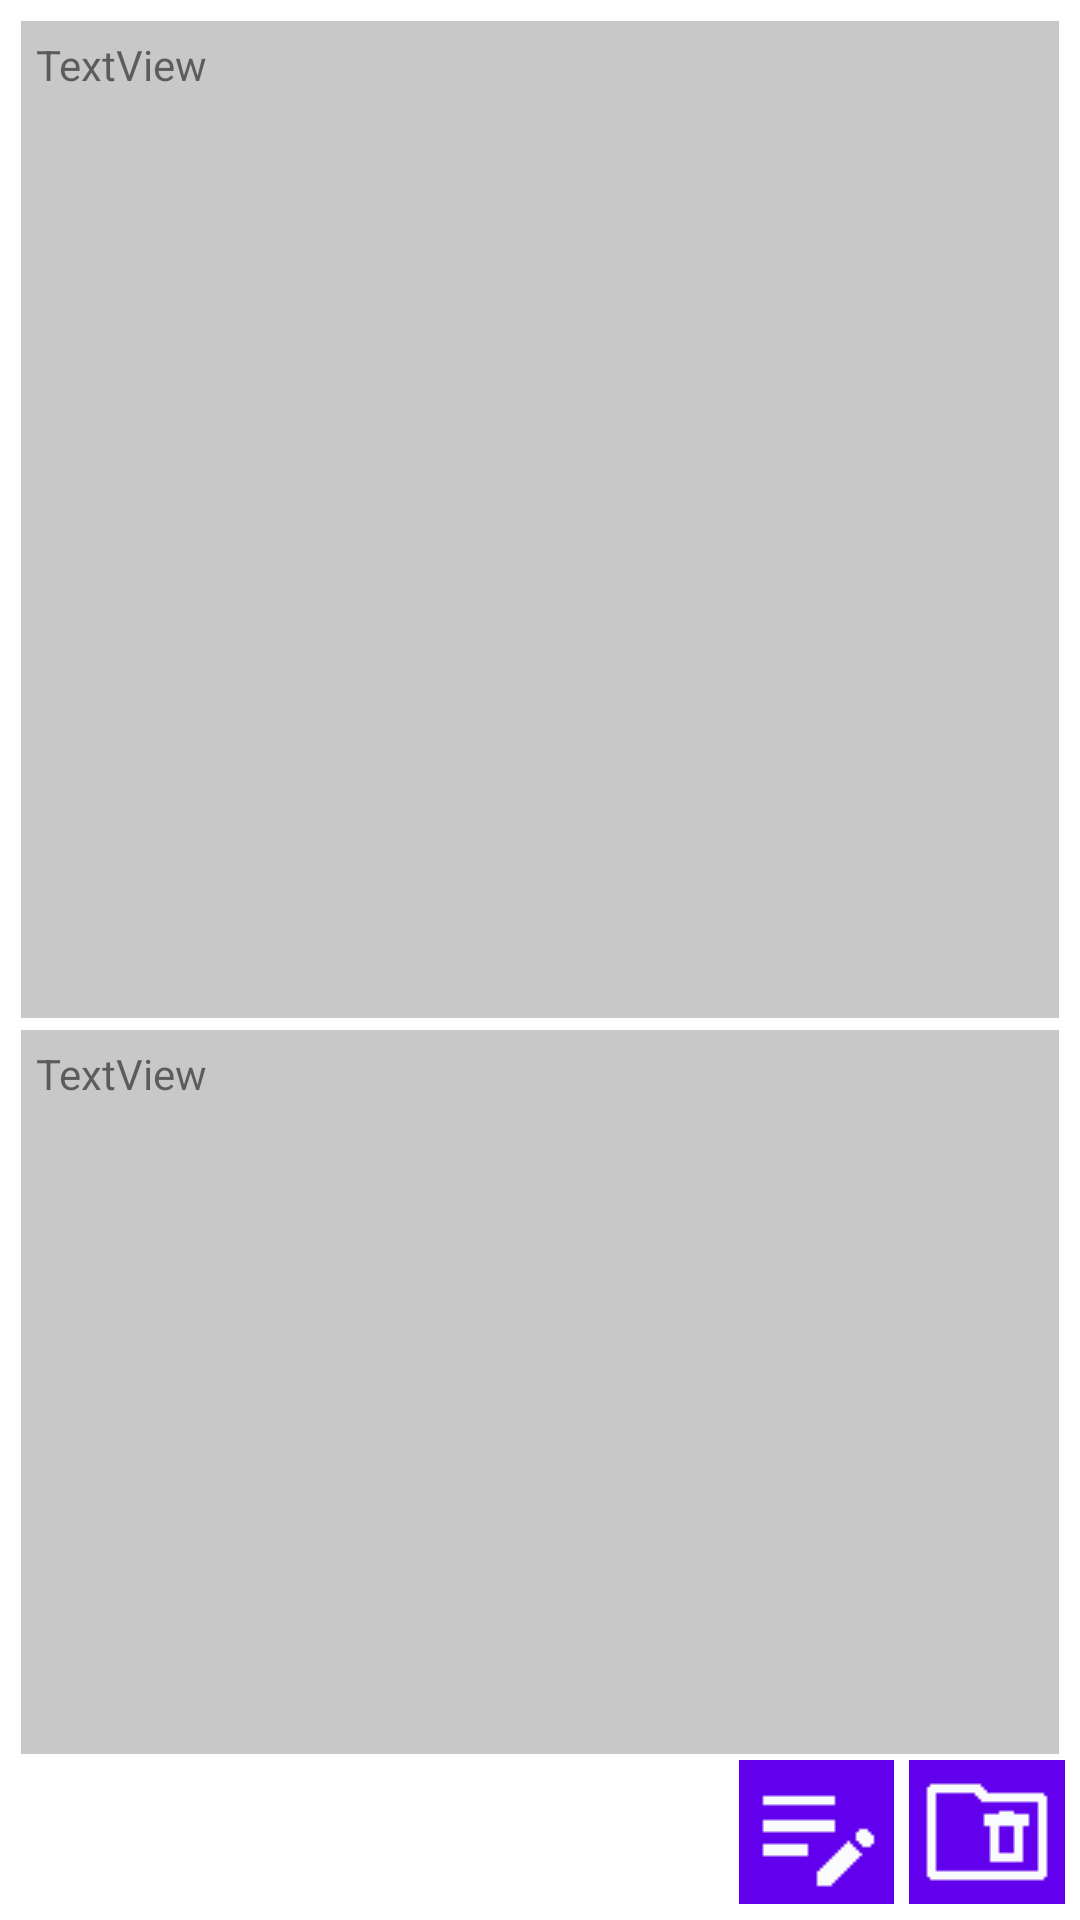

Screen size 1080px x 1920px. Icon name, then its box in pixels as bbox=[x1, y1, x2, y2]:
delete: bbox=[909, 1760, 1065, 1904]
edit: bbox=[739, 1760, 894, 1904]
